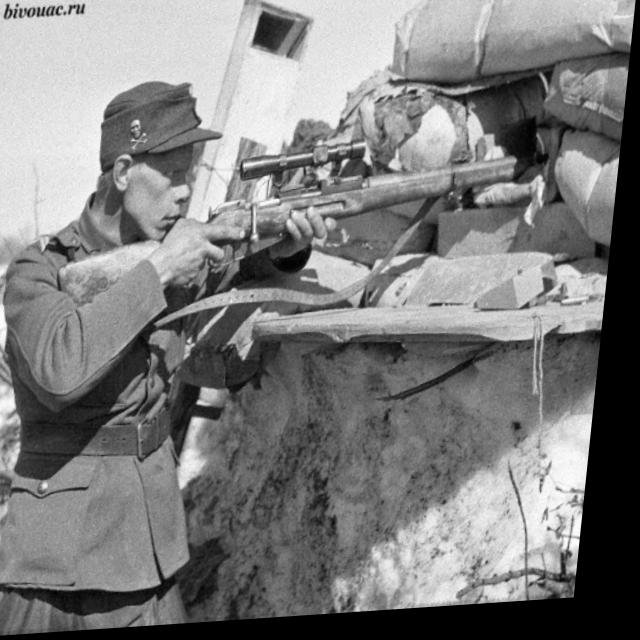other: (0, 68, 284, 638)
